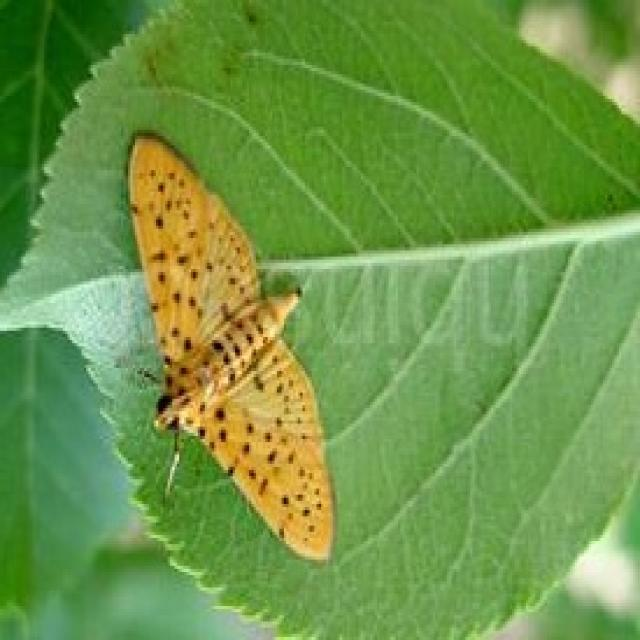peach borer: (122, 131, 341, 564)
